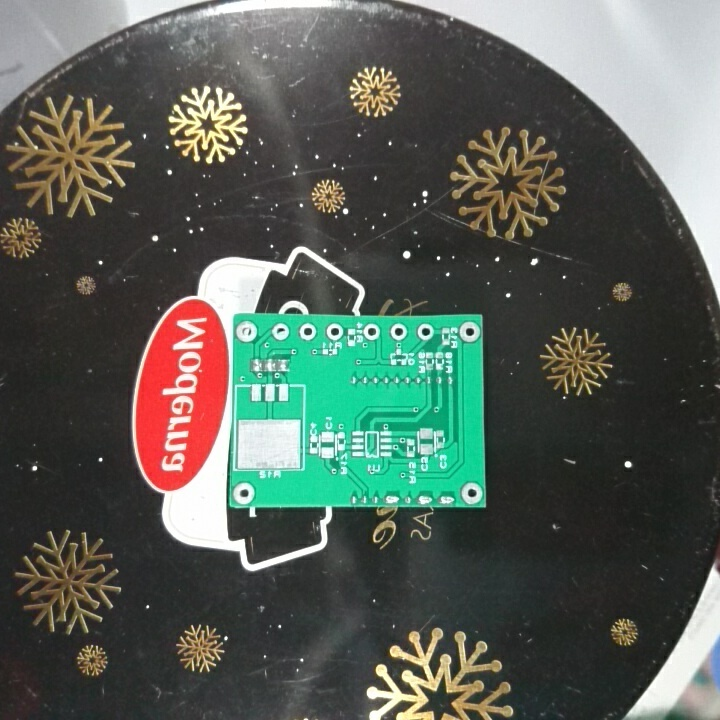F: (231, 480, 259, 506), (234, 319, 260, 343), (459, 481, 483, 506), (457, 321, 481, 345), (269, 320, 292, 342), (297, 321, 319, 343), (323, 321, 346, 342), (361, 321, 382, 343), (388, 323, 411, 343), (415, 322, 436, 342)
P: (415, 492, 436, 506), (382, 492, 402, 506), (437, 492, 457, 506)
